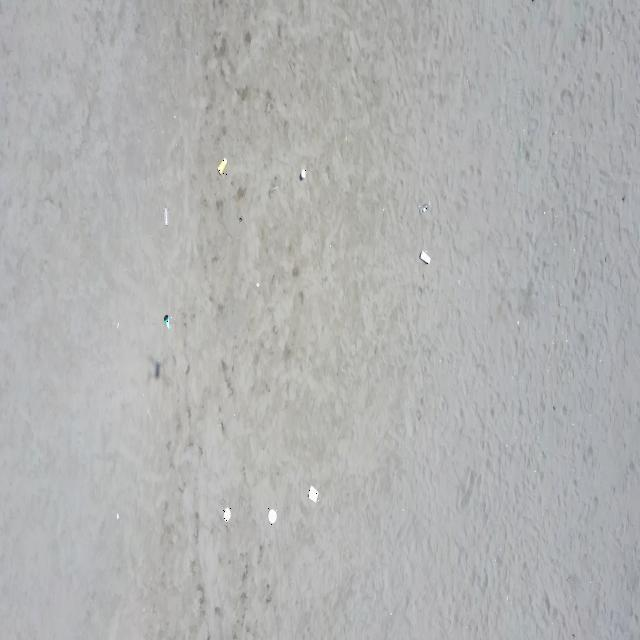take-away-containers: (308, 485, 319, 504), (267, 508, 277, 525), (223, 507, 231, 523)
takeaway-cup: (217, 157, 228, 175), (419, 249, 432, 264), (162, 206, 171, 226), (419, 203, 430, 215), (164, 314, 172, 330), (300, 168, 306, 180)
